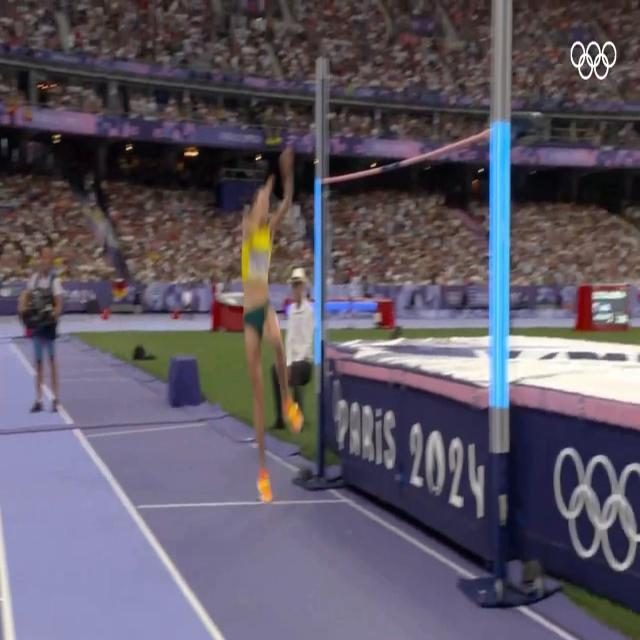jump: (243, 154, 305, 500)
